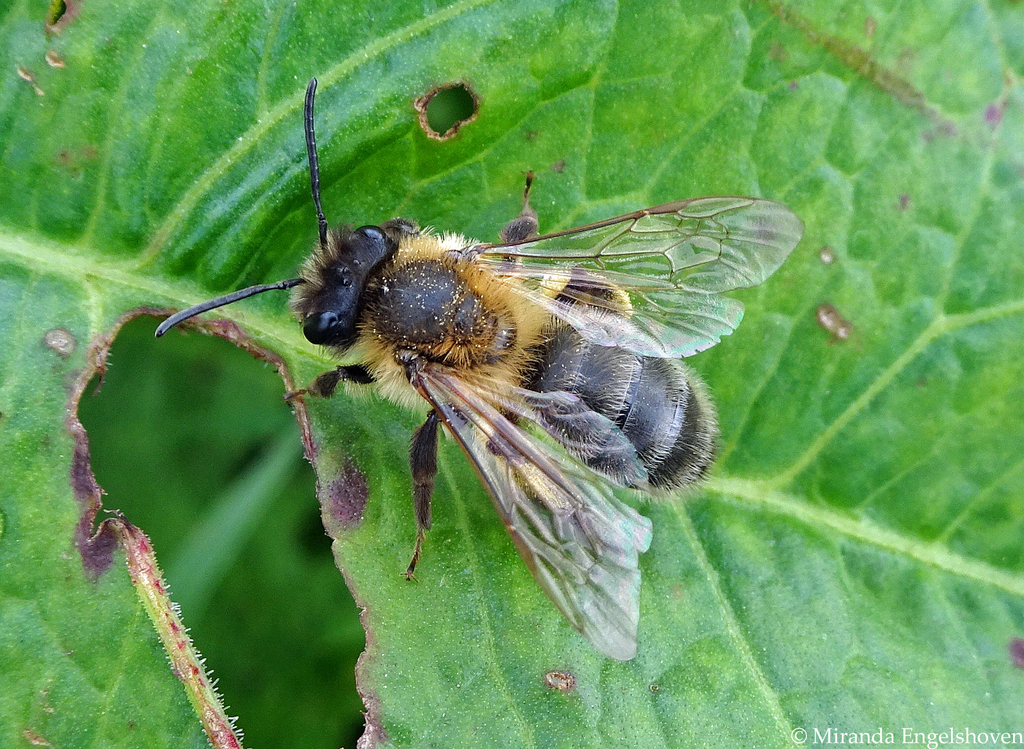not_bumblebee: (151, 76, 805, 663)
